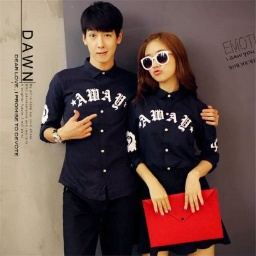face: (137, 31, 197, 99), (79, 2, 125, 65)
